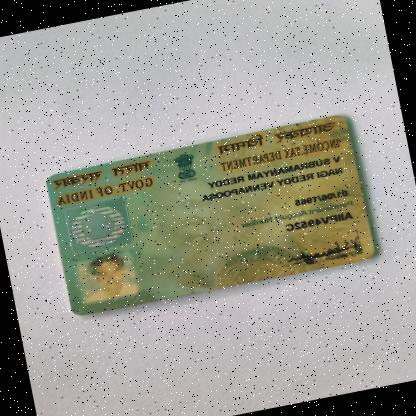pan_card: (37, 105, 380, 326)
